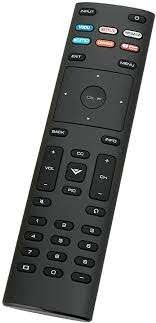remote control: (9, 7, 150, 320)
